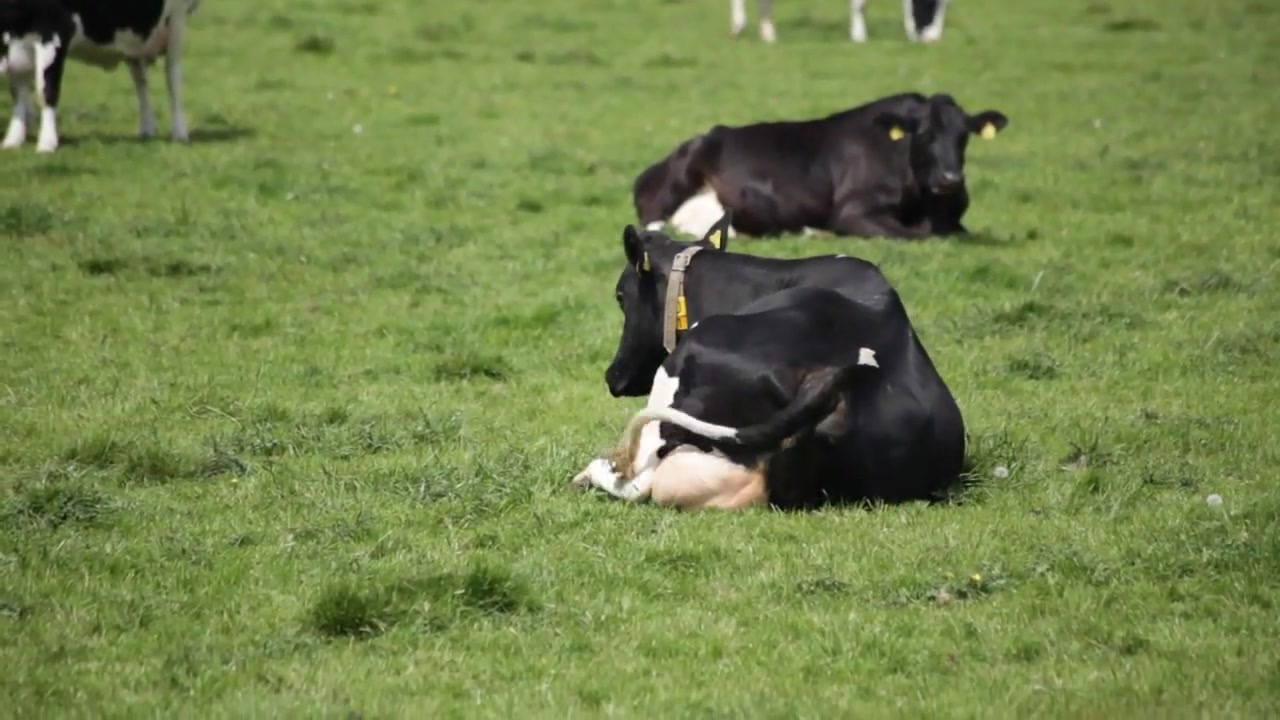cow: (573, 224, 971, 522)
